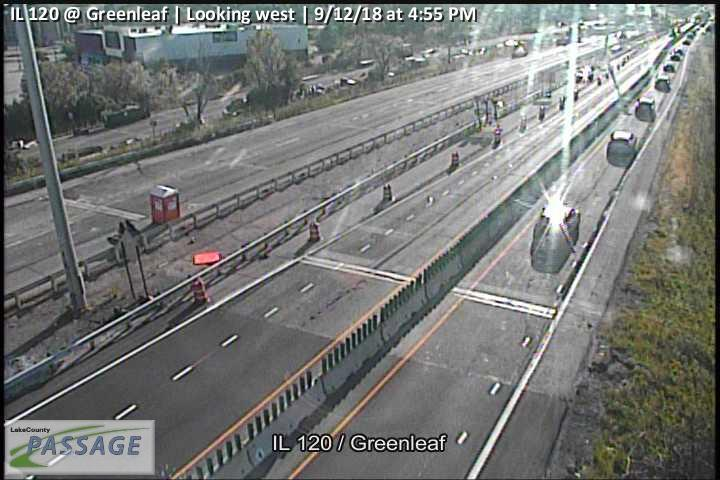SUV: (527, 204, 581, 253), (606, 130, 637, 161), (634, 97, 655, 122), (654, 76, 671, 92)
